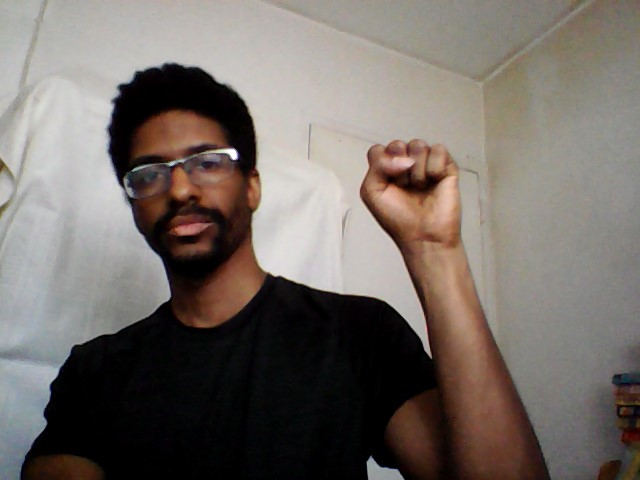s: (355, 135, 466, 245)
